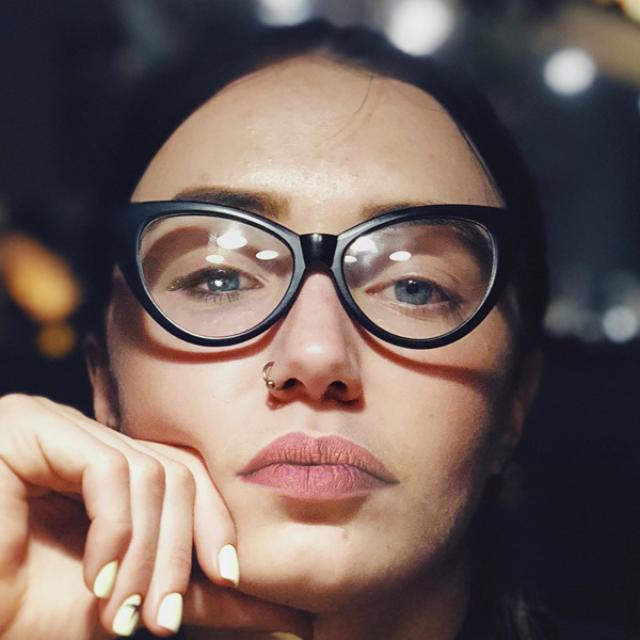face: (67, 38, 554, 620)
